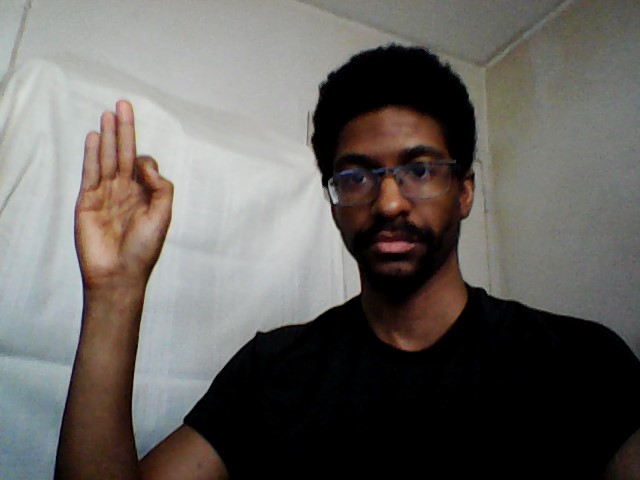f: (67, 93, 178, 301)
